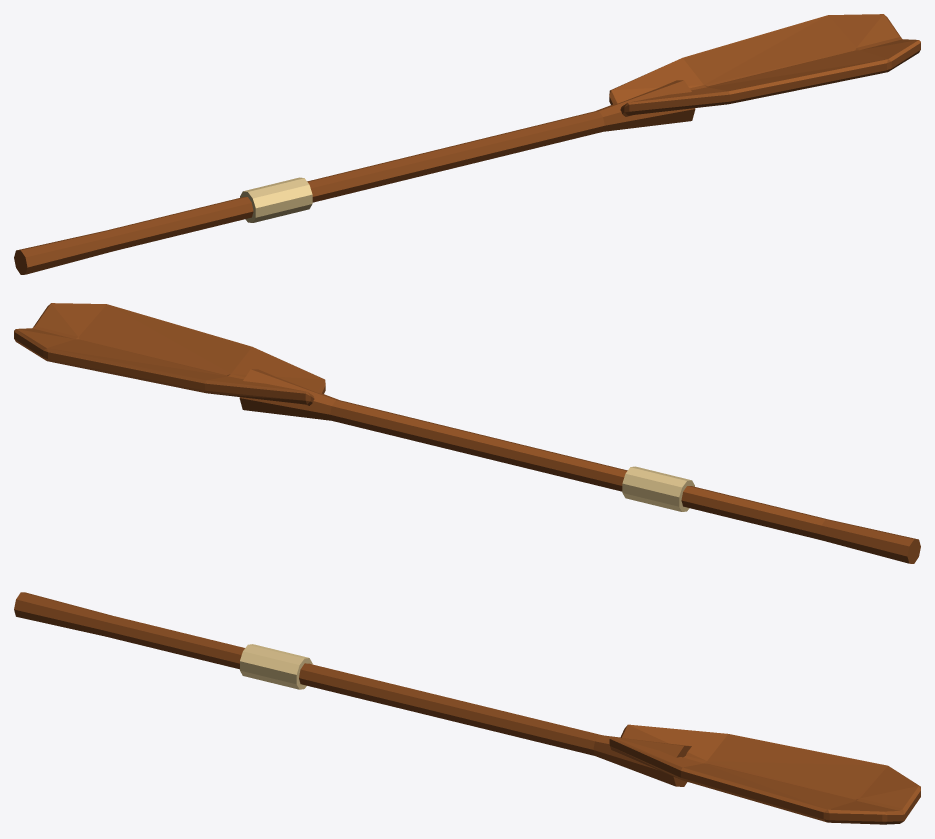
Rendered from EM_BoatOar.fbx.
3 renders of one model, top to bottom at view 1: azimuth 30°, elevation 25°; view 2: azimuth 150°, elevation 25°; view 3: azimuth 330°, elevation 25°, orthographic.
Parts seen in each view (by area): view 1: EM_BoatOar; view 2: EM_BoatOar; view 3: EM_BoatOar.
Part boxes in pixels (box(x1,y1,x2,y2)): EM_BoatOar: box(14, 14, 920, 274); EM_BoatOar: box(14, 303, 920, 563); EM_BoatOar: box(14, 592, 920, 824).
Bounding box in the file's own units: 2.49 × 0.1121 × 0.3087.
